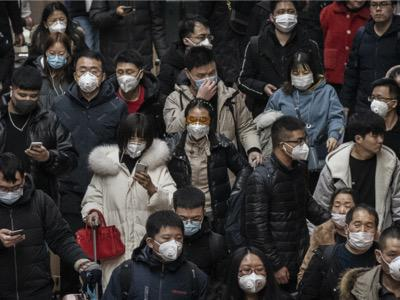mask_weared_incorrect: (331, 198, 353, 231)
with_mask: (154, 231, 184, 264), (347, 218, 375, 253), (239, 261, 267, 294), (176, 211, 205, 239), (192, 67, 219, 95), (77, 63, 101, 93), (186, 113, 211, 141), (274, 7, 299, 34), (114, 66, 139, 93), (11, 90, 38, 115), (382, 245, 399, 284), (0, 179, 25, 205), (369, 91, 391, 119), (289, 133, 311, 161), (290, 68, 314, 92), (190, 30, 215, 53), (124, 133, 146, 159), (48, 14, 66, 36)
without_mask: (365, 129, 385, 155), (369, 1, 392, 23)
